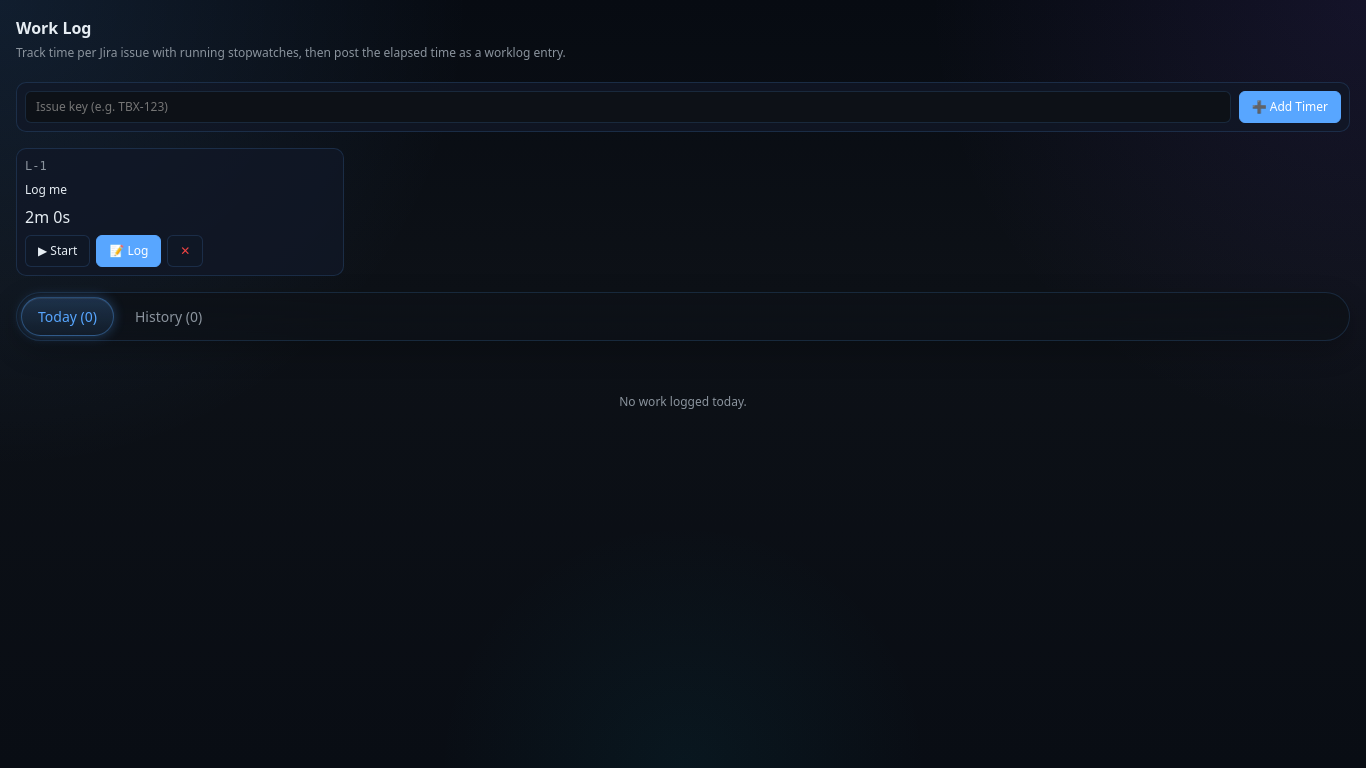
Test: WorkLogView › opens the post dialog when the Log button is clicked
Click the button "📝 Log" at (129, 251), box [96,235,161,267]
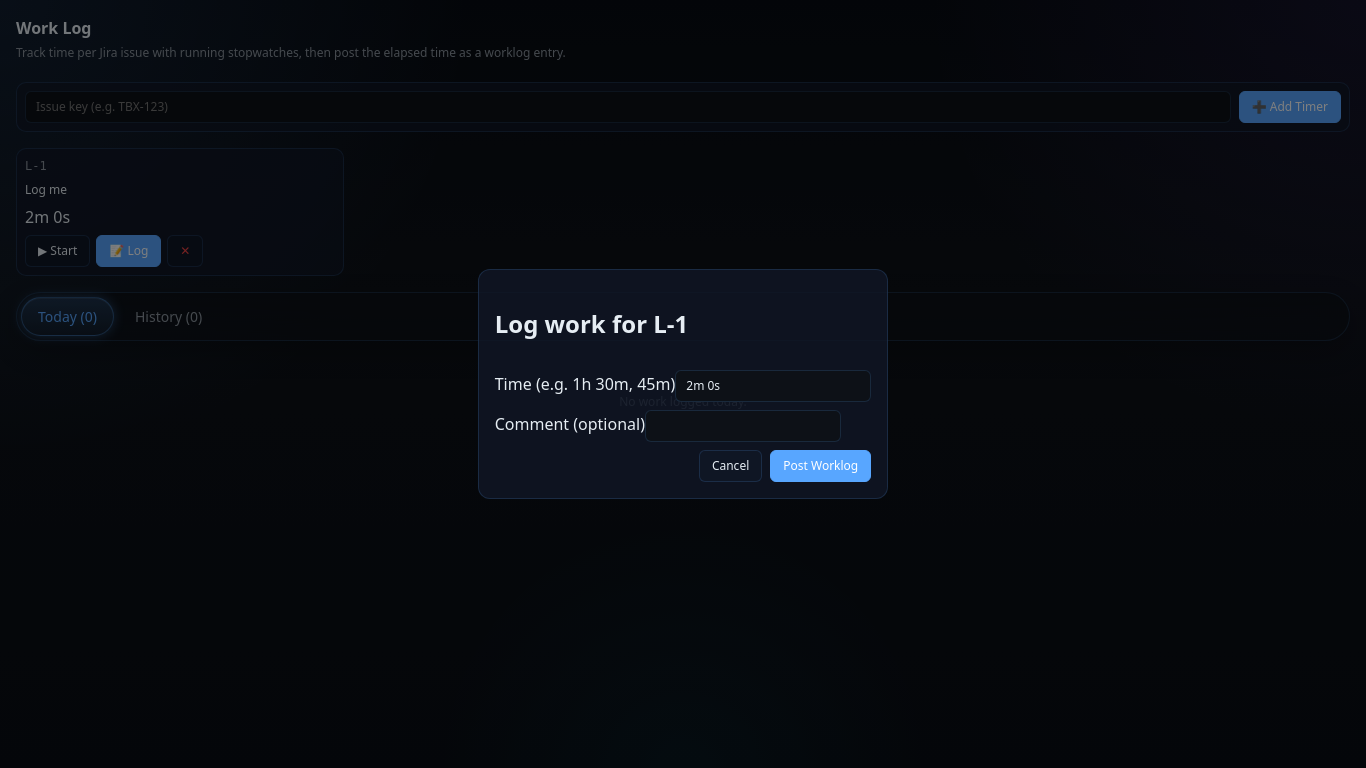
Expected: the dialog "Log work" is shown
Expected: the field named "Worklog duration" holds "2m 0s", [675,370,871,402]
